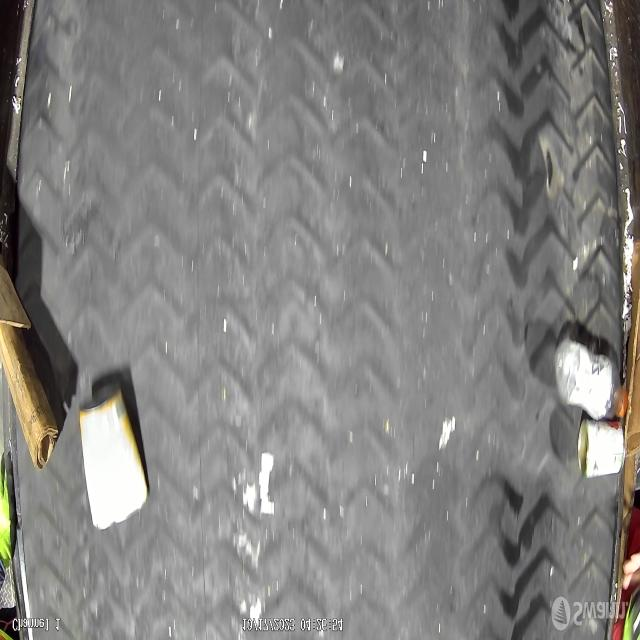can: (578, 417, 626, 481)
plastic_bottle: (554, 337, 628, 420)
